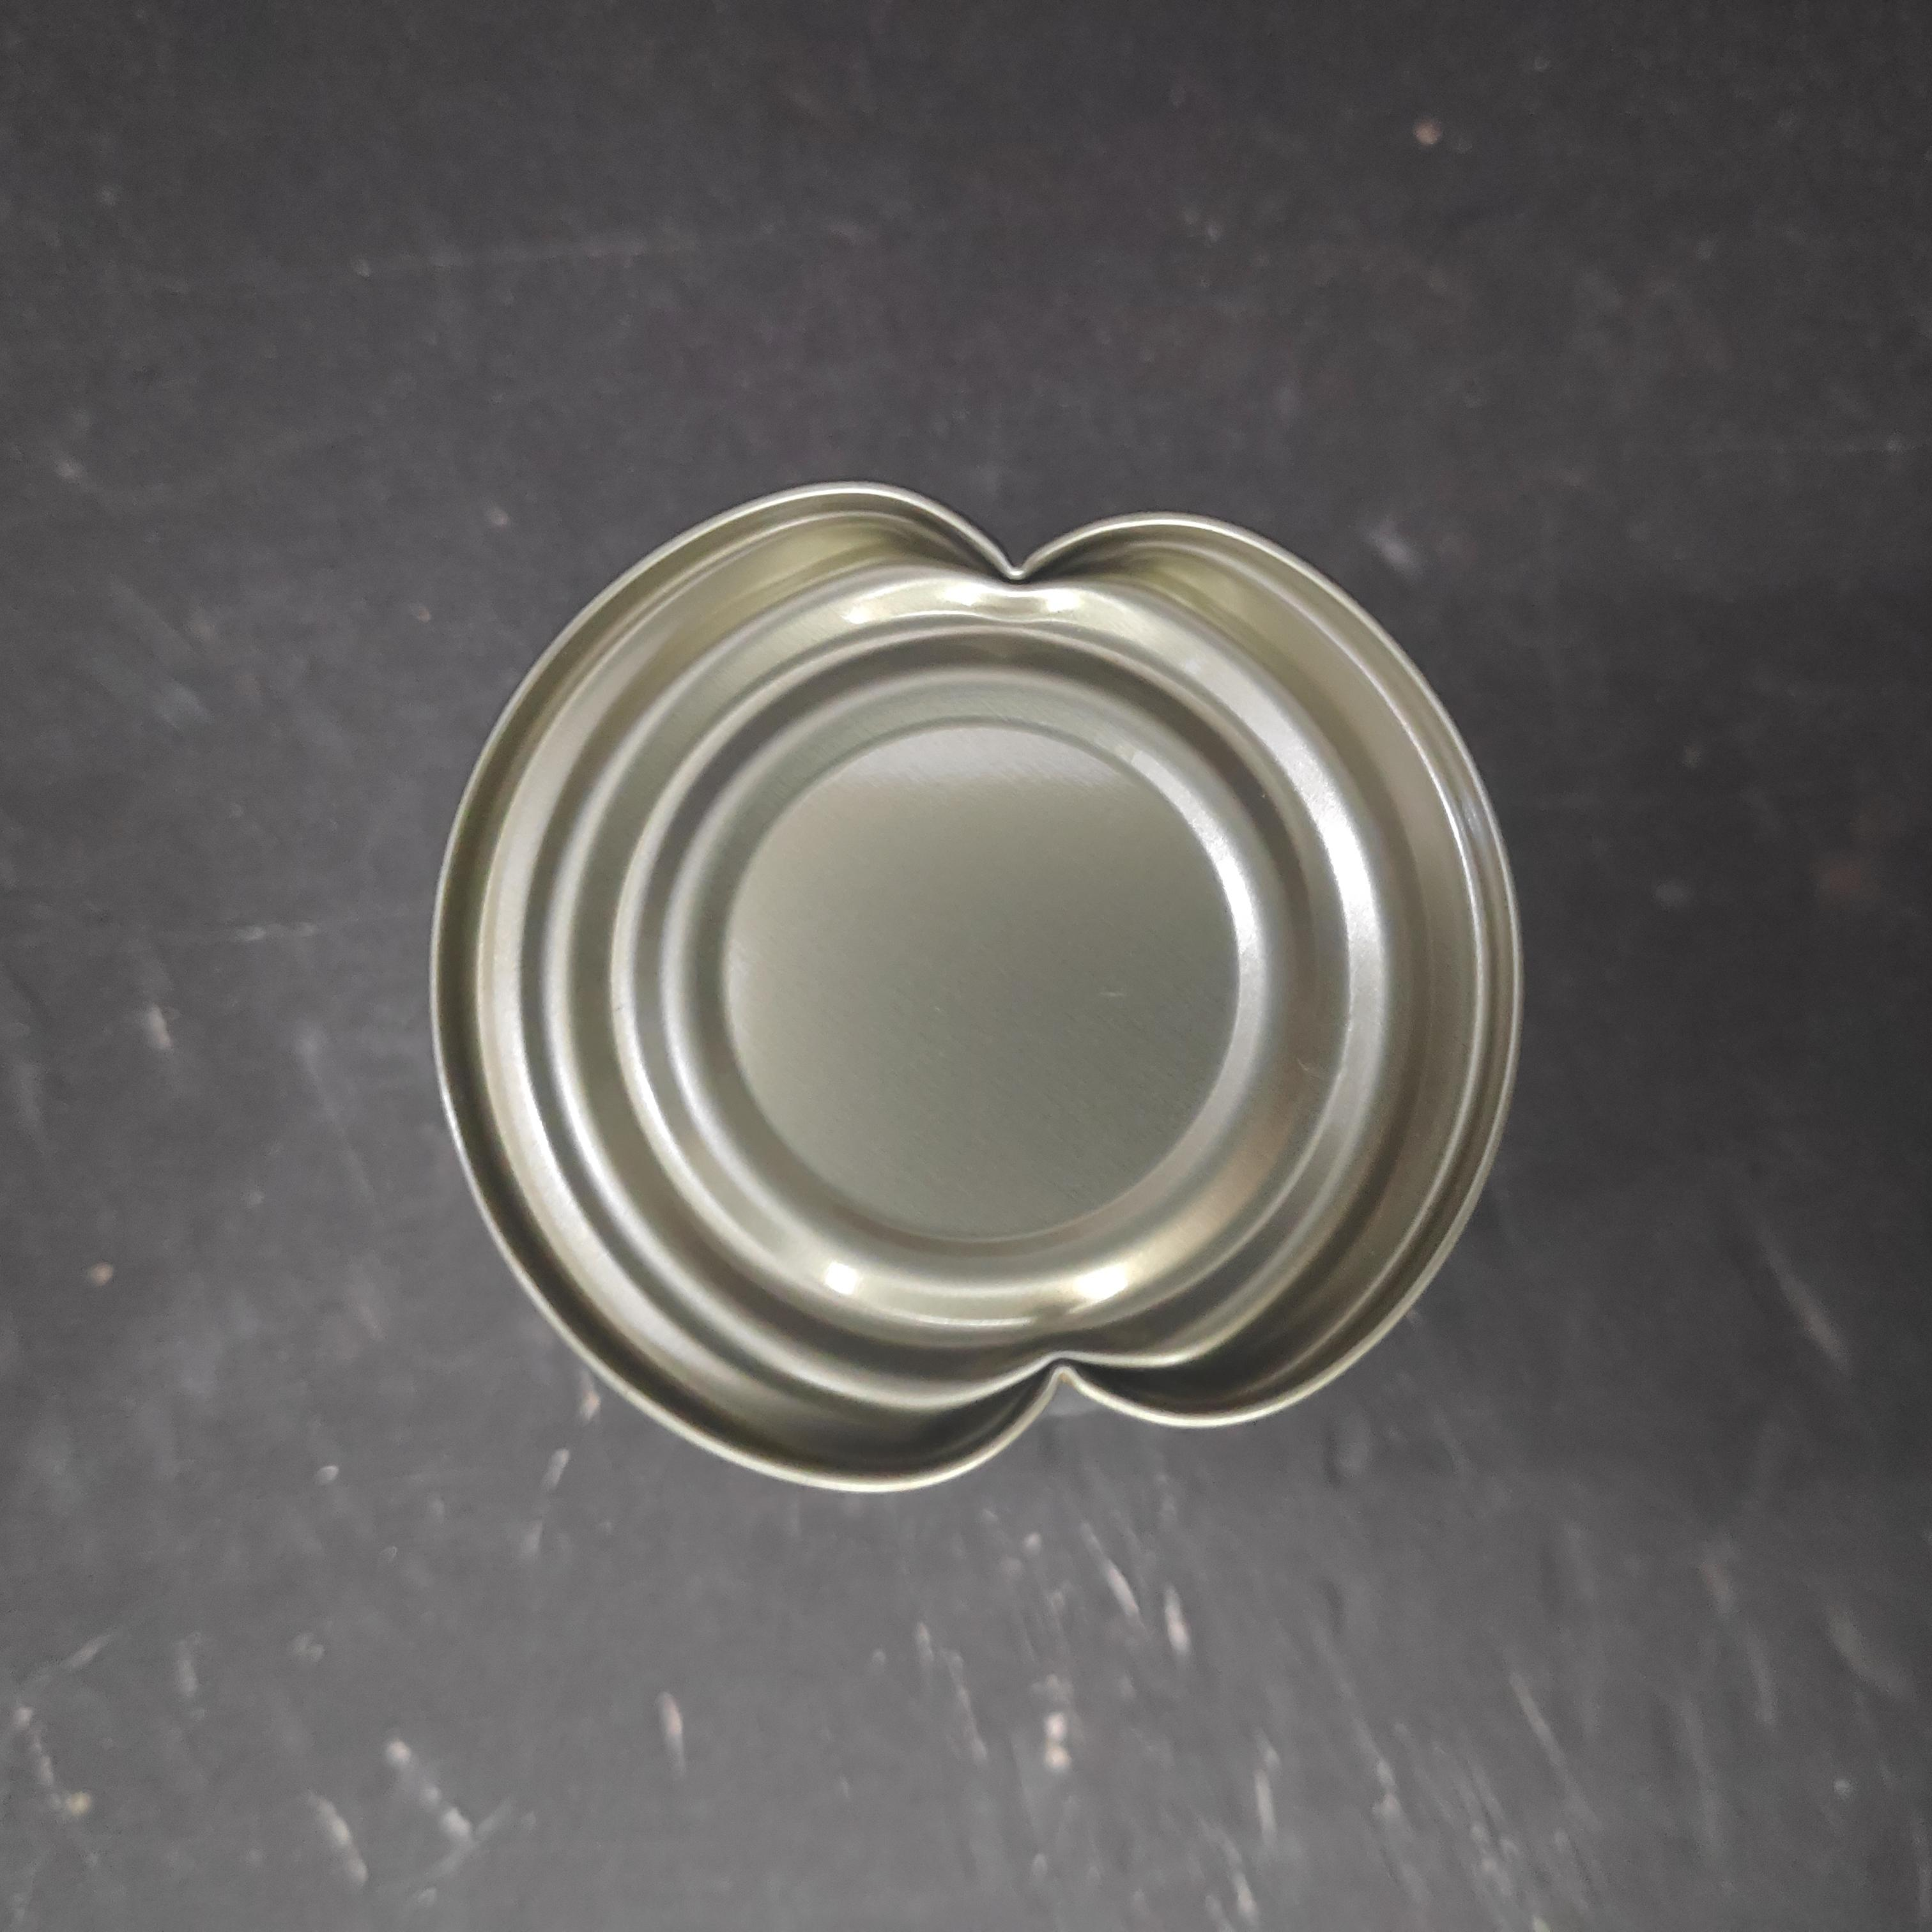Critical Defect: (395, 428, 1509, 1472)
